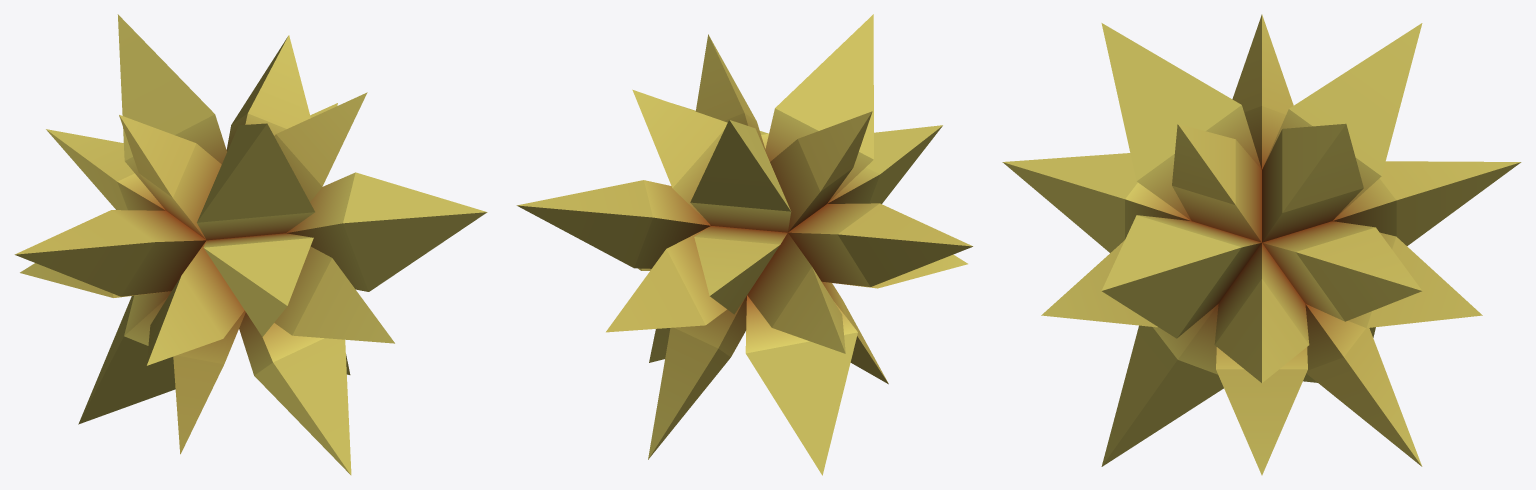
Rendered from star2.gltf.
3 views of the same model, side by side, from view 1: azimuth 30°, elevation 25°; view 2: azimuth 150°, elevation 25°; view 3: azimuth 270°, elevation 25° (orthographic). The views are drawn at different scales.
Visible parts, largest first — view 1: Icosphere.005; view 2: Icosphere.005; view 3: Icosphere.005.
Part boxes in pixels (box(x1,y1,x2,y2)): Icosphere.005: box(14, 14, 487, 475); Icosphere.005: box(516, 14, 973, 475); Icosphere.005: box(1002, 14, 1521, 475).
Bounding box in the file's own units: 3.01 × 2.64 × 3.1.
